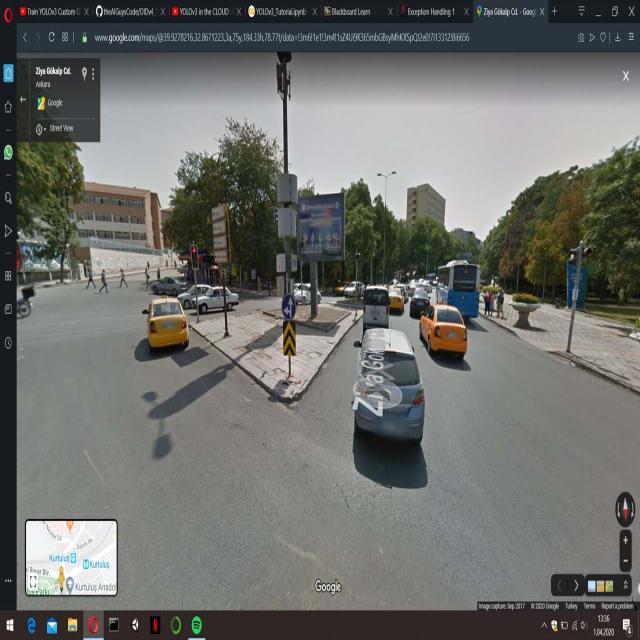ilerisol: (281, 292, 297, 322)
kirmizi: (190, 245, 199, 271)
